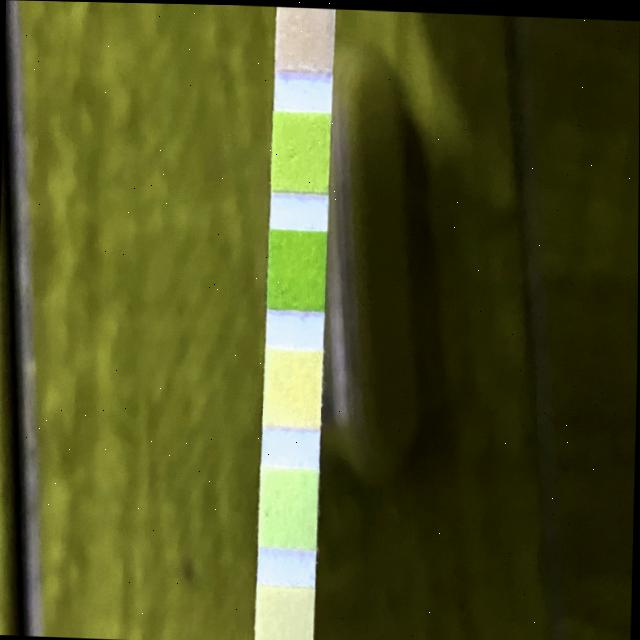Blood: (269, 231, 325, 307)
Ketone: (277, 5, 333, 67)
Protein: (260, 469, 317, 545)
SpGravity: (272, 111, 328, 187)
Urobilinogen: (256, 585, 312, 640)
pH: (266, 349, 322, 425)
